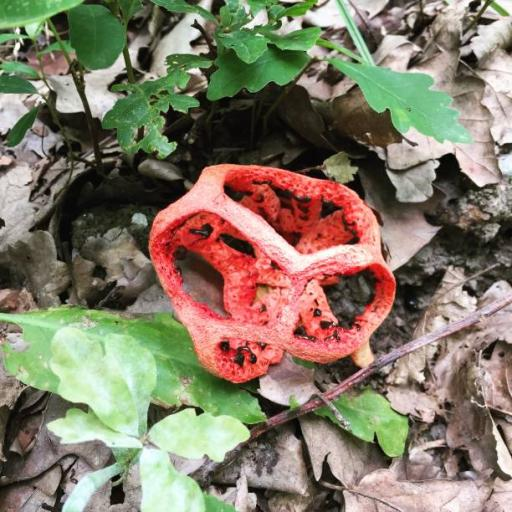Red Cage Fungus: (144, 157, 410, 386)
